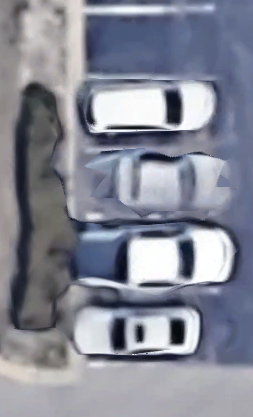Occupied: (79, 290, 218, 365), (79, 217, 218, 290), (81, 77, 218, 150), (80, 149, 218, 218)
Vacant: (81, 7, 216, 78)
